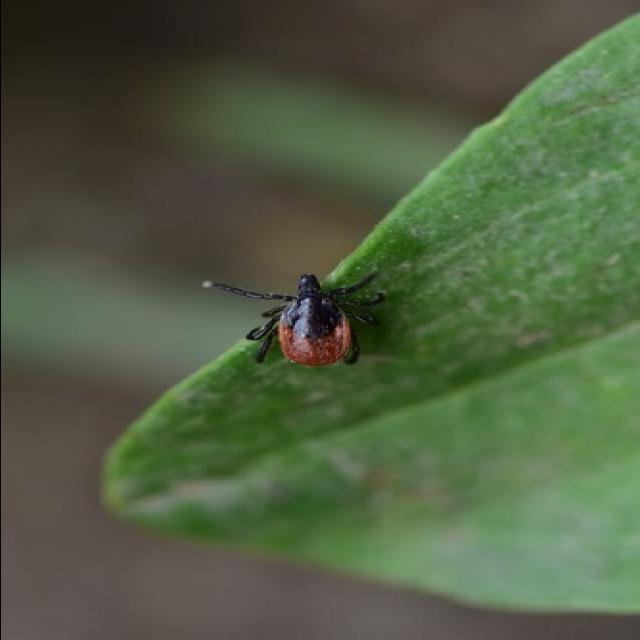Ixodes Ricinus-F: (202, 271, 386, 369)
